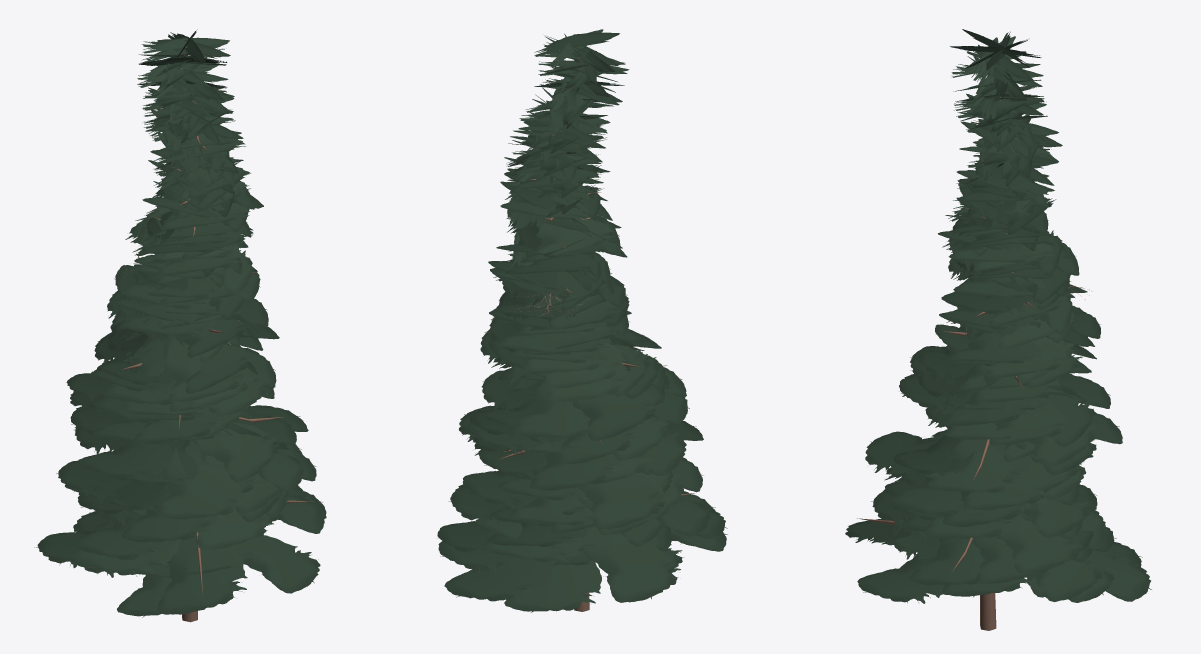
Rendered from Random Trees.003.fbx.
3 renders of one model, left to right at view 1: azimuth 30°, elevation 25°; view 2: azimuth 150°, elevation 25°; view 3: azimuth 270°, elevation 25°, orthographic. The views are drawn at different scales.
Visible parts, largest first — view 1: Random Trees.003; view 2: Random Trees.003; view 3: Random Trees.003.
Boxes of the visible parts, box(x1,y1,x2,y2) form: Random Trees.003: box(34, 29, 326, 622); Random Trees.003: box(437, 29, 727, 612); Random Trees.003: box(845, 29, 1151, 630).
Bounding box in the file's own units: 1778 × 3198 × 1936.
